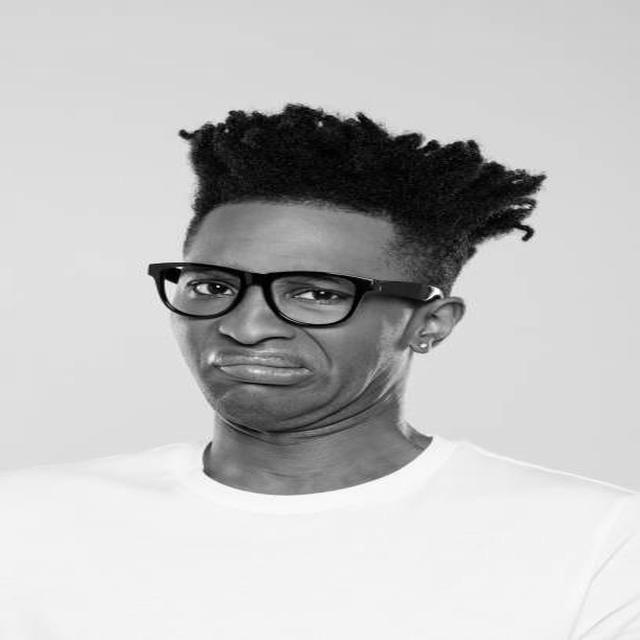Disgust: (168, 219, 408, 431)
